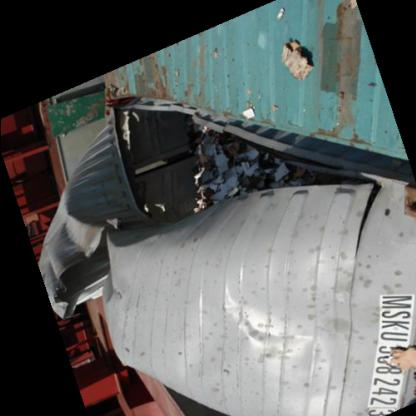Damage: (126, 94, 346, 222)
